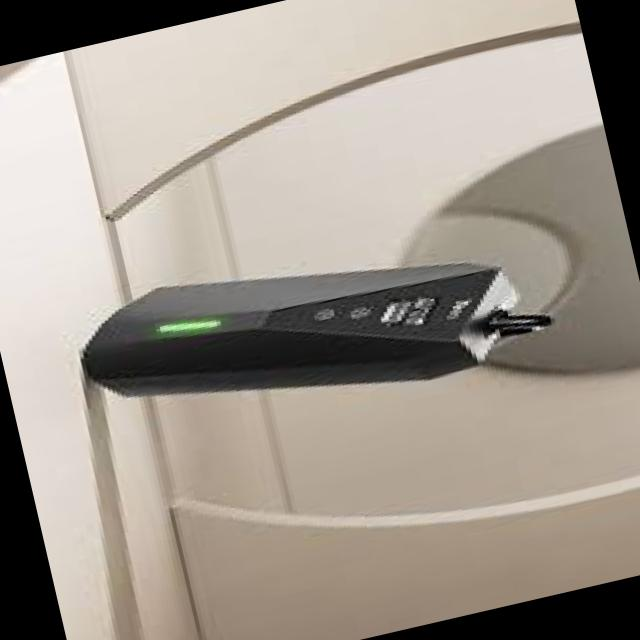power_bank: (58, 193, 580, 464)
